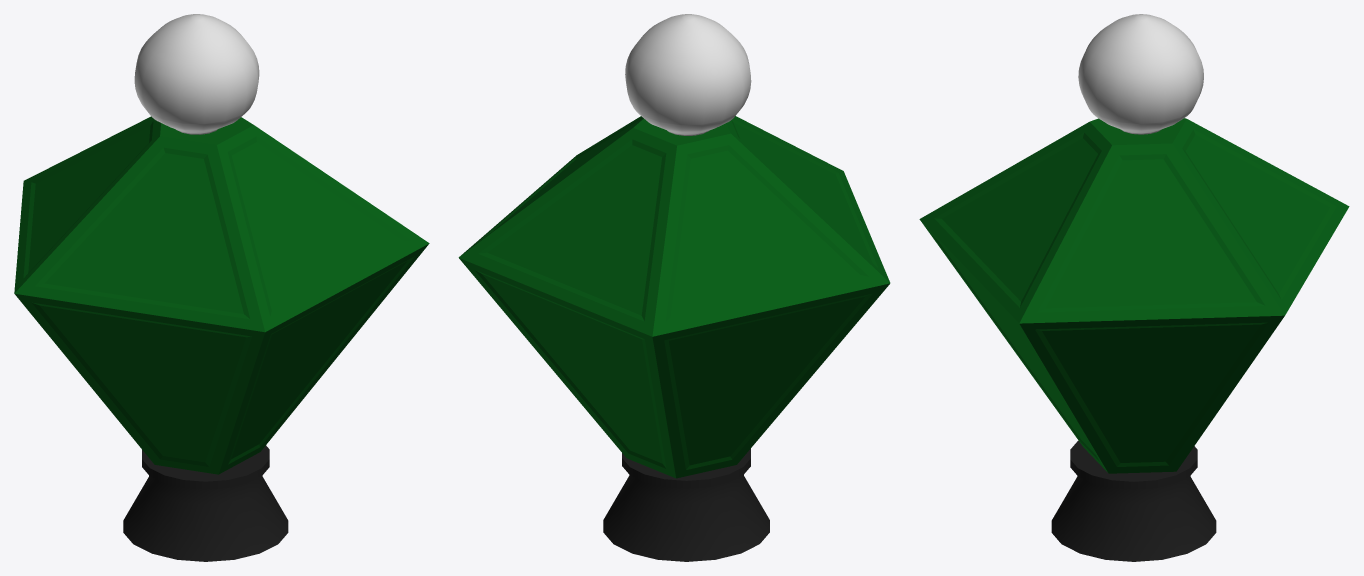
Rendered from GreenBottle.fbx.
The picture shows the model from 3 angles, left to right: view 1: azimuth 30°, elevation 25°; view 2: azimuth 150°, elevation 25°; view 3: azimuth 270°, elevation 25°; orthographic projection.
Visible parts, largest first — view 1: GreenBottle; view 2: GreenBottle; view 3: GreenBottle.
Boxes of the visible parts, x1,y1,x2,y2 form: GreenBottle: (14, 14, 429, 561); GreenBottle: (458, 14, 890, 561); GreenBottle: (919, 14, 1349, 561).
Size of the model in its own units: 5.16 by 6.91 by 5.31.
